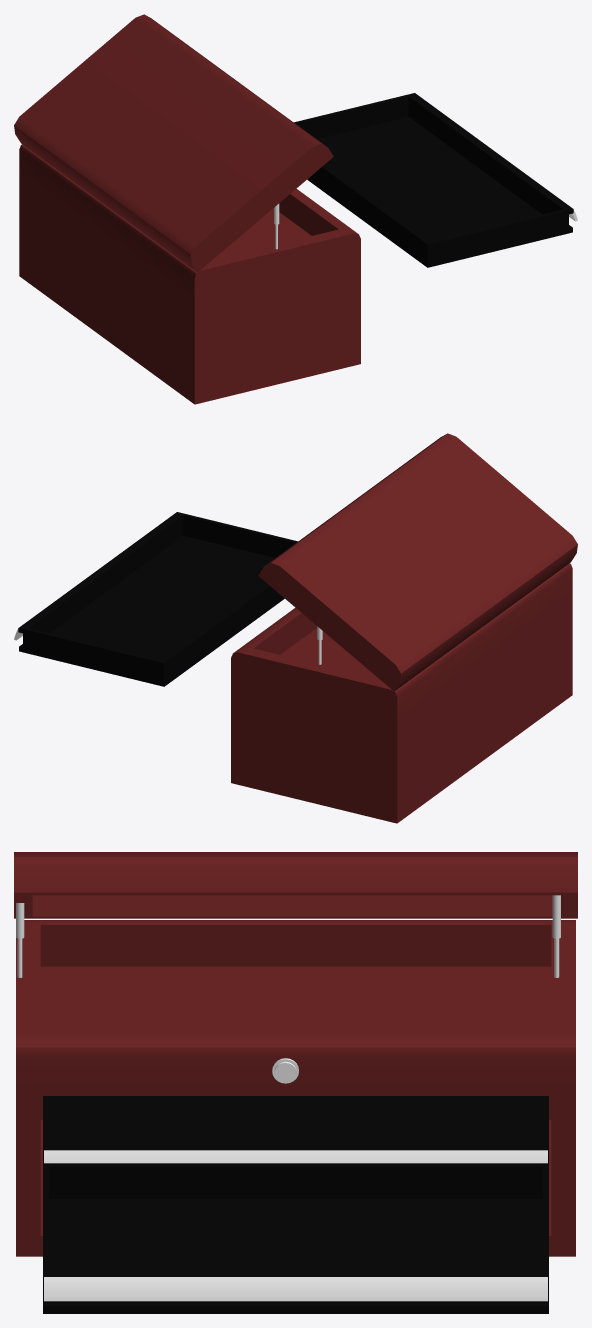
The model's file is FBX_Toolbox 1.fbx.
The picture shows the model from 3 angles, top to bottom: view 1: azimuth 30°, elevation 25°; view 2: azimuth 150°, elevation 25°; view 3: azimuth 270°, elevation 25°; orthographic projection. The views are drawn at different scales.
Visible parts, largest first — view 1: polySurface7, polySurface14; view 2: polySurface7, polySurface14; view 3: polySurface7, polySurface14.
Part boxes in pixels (box(x1,y1,x2,y2)): polySurface7: box(14, 14, 360, 404); polySurface14: box(294, 93, 577, 267); polySurface7: box(231, 433, 577, 823); polySurface14: box(14, 512, 297, 686); polySurface7: box(14, 852, 577, 1256); polySurface14: box(43, 1163, 548, 1313).
Bounding box in the file's own units: 0.9091 × 0.5054 × 0.7019.
